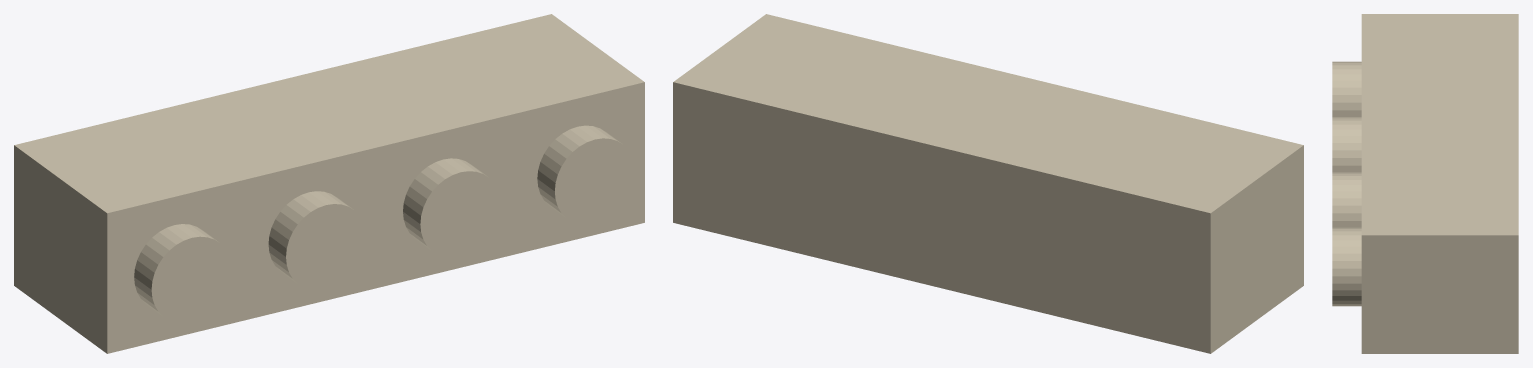
The model's file is brick_0.glb.
3 renders of one model, left to right at view 1: azimuth 30°, elevation 25°; view 2: azimuth 150°, elevation 25°; view 3: azimuth 270°, elevation 25°, orthographic. The views are drawn at different scales.
Parts seen in each view (by area): view 1: world; view 2: world; view 3: world.
Part boxes in pixels (x1,y1,x2,y2): world: (14,14,644,353); world: (673,14,1303,353); world: (1332,14,1518,353).
Bounding box in the file's own units: 32 × 8 × 11.4.
